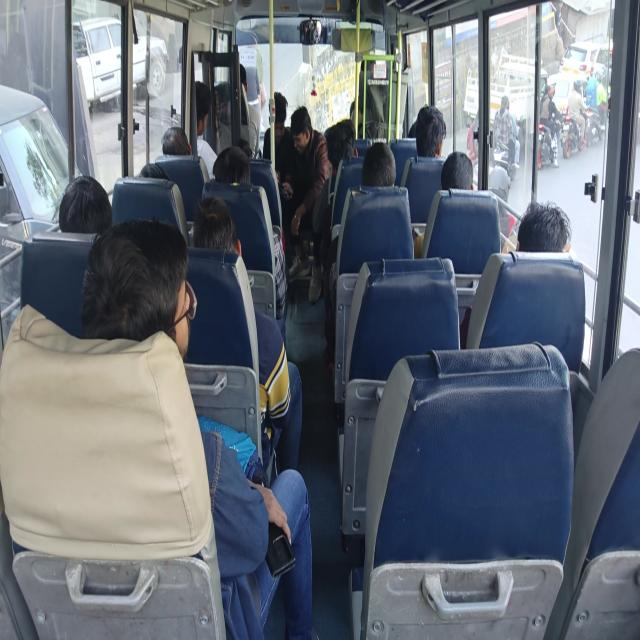person: (96, 255, 197, 368), (509, 209, 587, 289), (53, 171, 113, 244), (185, 200, 237, 274), (358, 152, 398, 232), (418, 91, 445, 170), (209, 158, 255, 198), (292, 109, 318, 178), (362, 43, 386, 111), (442, 159, 481, 198), (228, 56, 252, 116), (326, 128, 354, 176), (266, 89, 288, 148), (132, 154, 169, 186), (179, 80, 206, 122), (163, 121, 189, 153)
